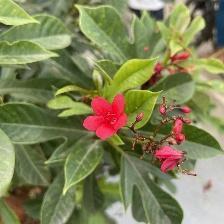jatropha: (84, 94, 129, 142)
rose: (155, 142, 190, 175)
